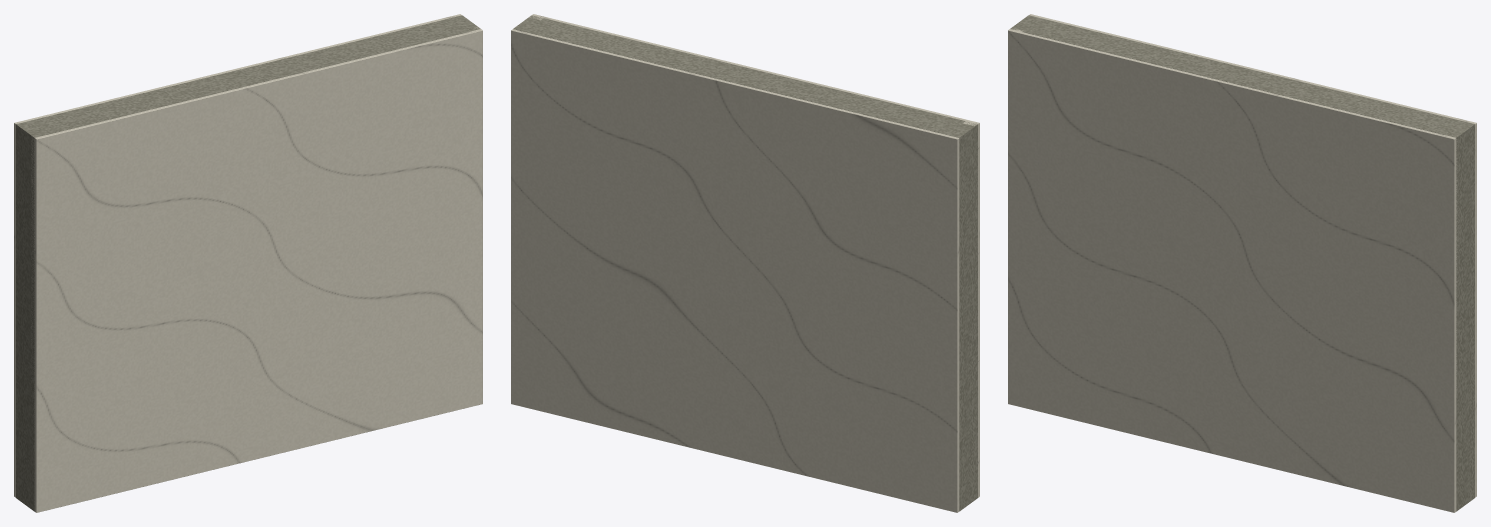
3 renders of one model, left to right at view 1: azimuth 30°, elevation 25°; view 2: azimuth 150°, elevation 25°; view 3: azimuth 330°, elevation 25°, orthographic.
Visible parts, largest first — view 1: Replaceable marble facing panel, Bearing masonry wall segment, Replaceable marble facing panel.001; view 2: Replaceable marble facing panel.001, Bearing masonry wall segment, Replaceable marble facing panel, Fluted edge pilaster; view 3: Replaceable marble facing panel, Bearing masonry wall segment, Replaceable marble facing panel.001.
Boxes of the visible parts, box(x1,y1,x2,y2) form: Replaceable marble facing panel: box(34, 29, 482, 512); Bearing masonry wall segment: box(16, 15, 480, 511); Replaceable marble facing panel.001: box(14, 14, 461, 497); Replaceable marble facing panel.001: box(511, 29, 959, 512); Bearing masonry wall segment: box(513, 15, 977, 511); Replaceable marble facing panel: box(532, 14, 979, 496); Fluted edge pilaster: box(963, 120, 979, 497); Replaceable marble facing panel: box(1008, 29, 1456, 512); Bearing masonry wall segment: box(1010, 15, 1474, 511); Replaceable marble facing panel.001: box(1029, 14, 1476, 497).
Size of the model in its own units: 4 by 3.2 by 0.35.
Materials: 2 (2 with a texture image).
